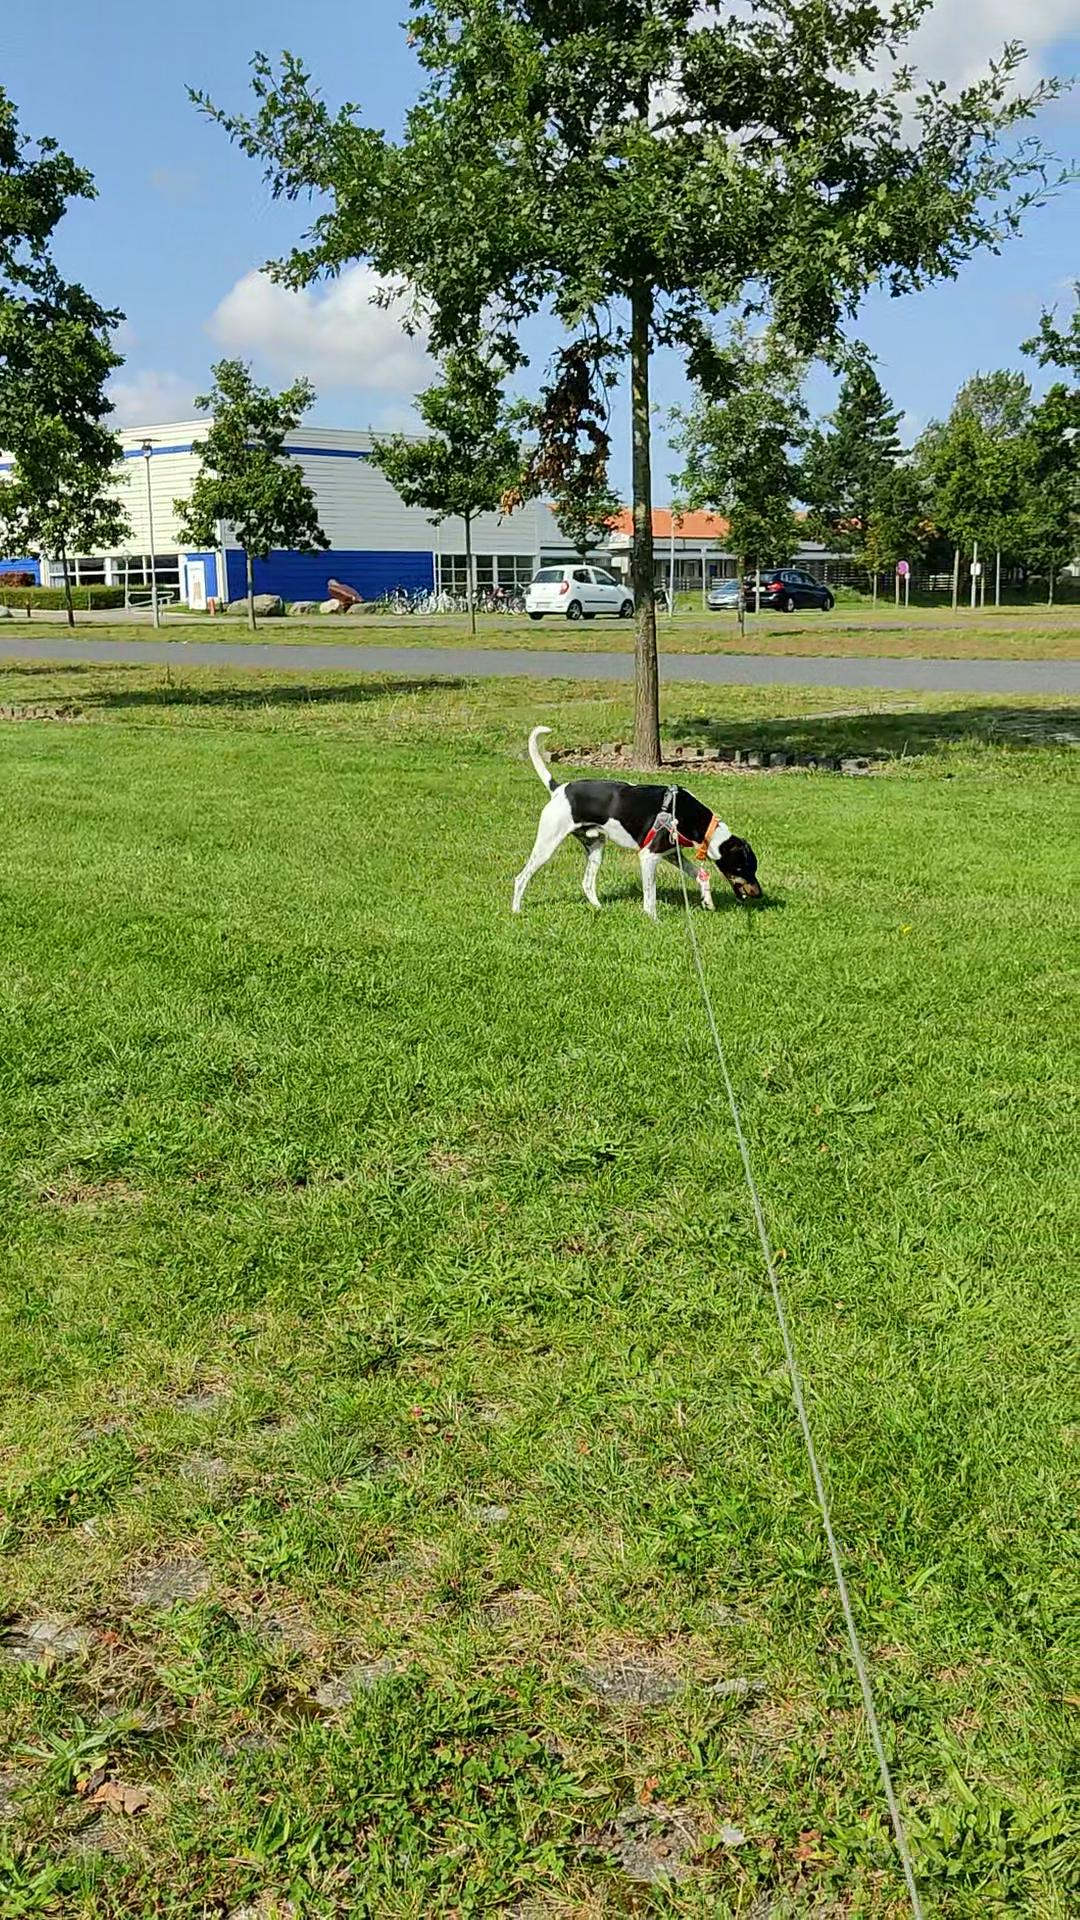Dog: (501, 719, 775, 923)
